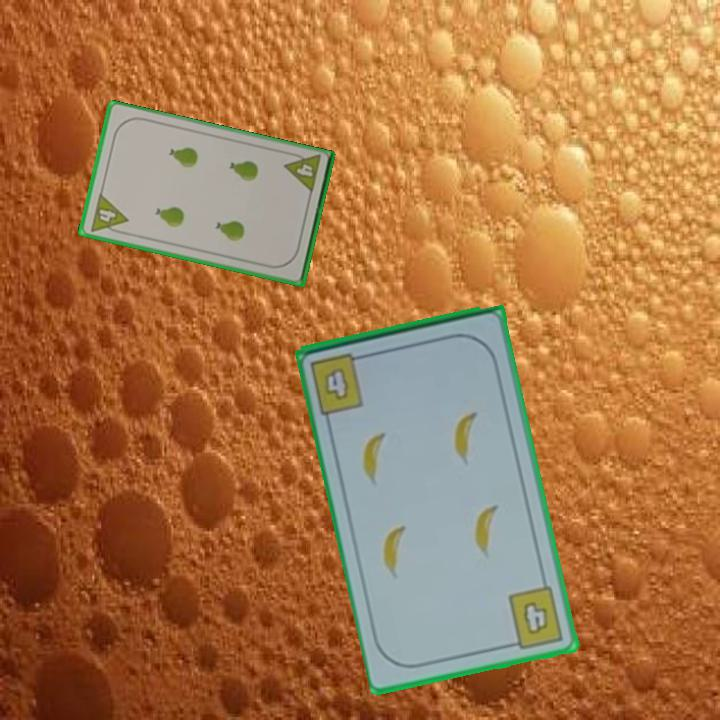4b: (307, 349, 372, 417), (505, 582, 567, 652)
4p: (86, 190, 131, 238), (281, 148, 324, 197)
